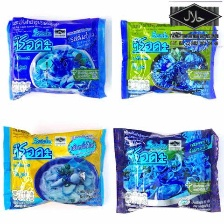snack: (106, 121, 224, 218), (0, 120, 109, 214), (2, 10, 109, 104), (114, 12, 221, 104)
